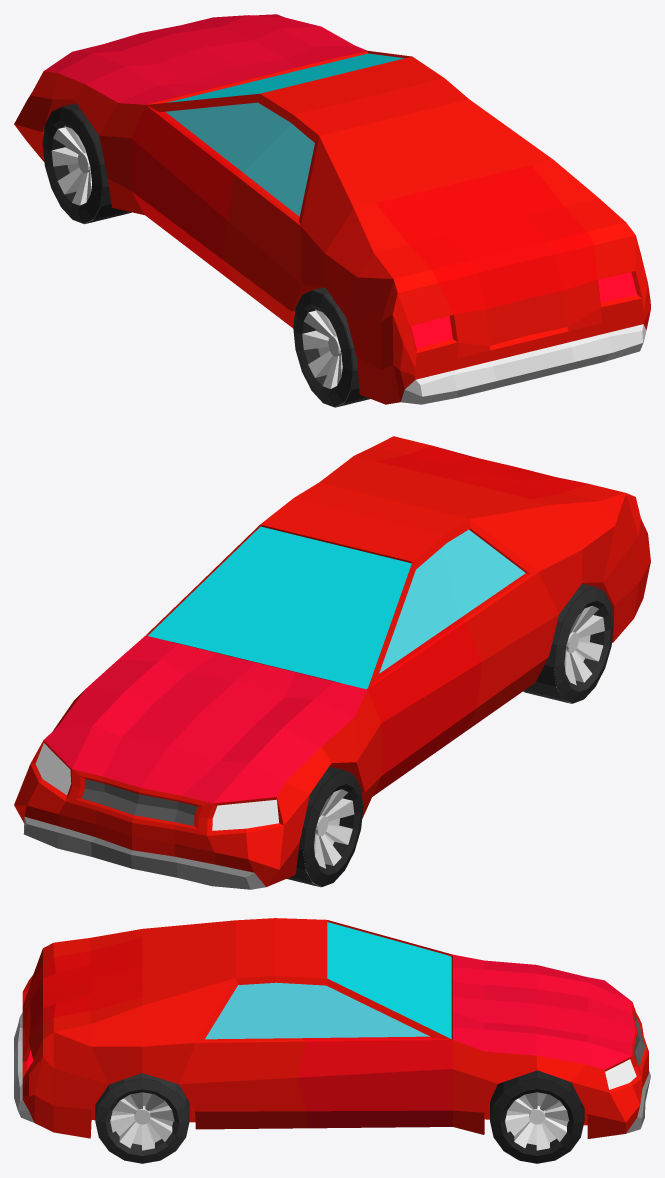
File: RED_CAR_JOINED_.fbx
3 views of the same model, one above another, from view 1: azimuth 30°, elevation 25°; view 2: azimuth 150°, elevation 25°; view 3: azimuth 270°, elevation 25° (orthographic). The views are drawn at different scales.
Visible parts, largest first — view 1: Car; view 2: Car; view 3: Car.
Boxes of the visible parts, x1,y1,x2,y2 form: Car: (14,14,650,407); Car: (14,436,650,889); Car: (14,918,650,1163).
Size of the model in its own units: 402 by 307 by 1054.
